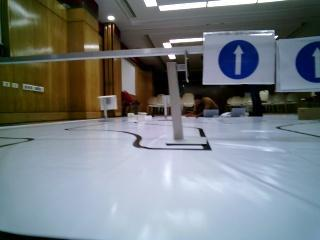straight: (205, 31, 273, 83), (278, 38, 320, 91)
